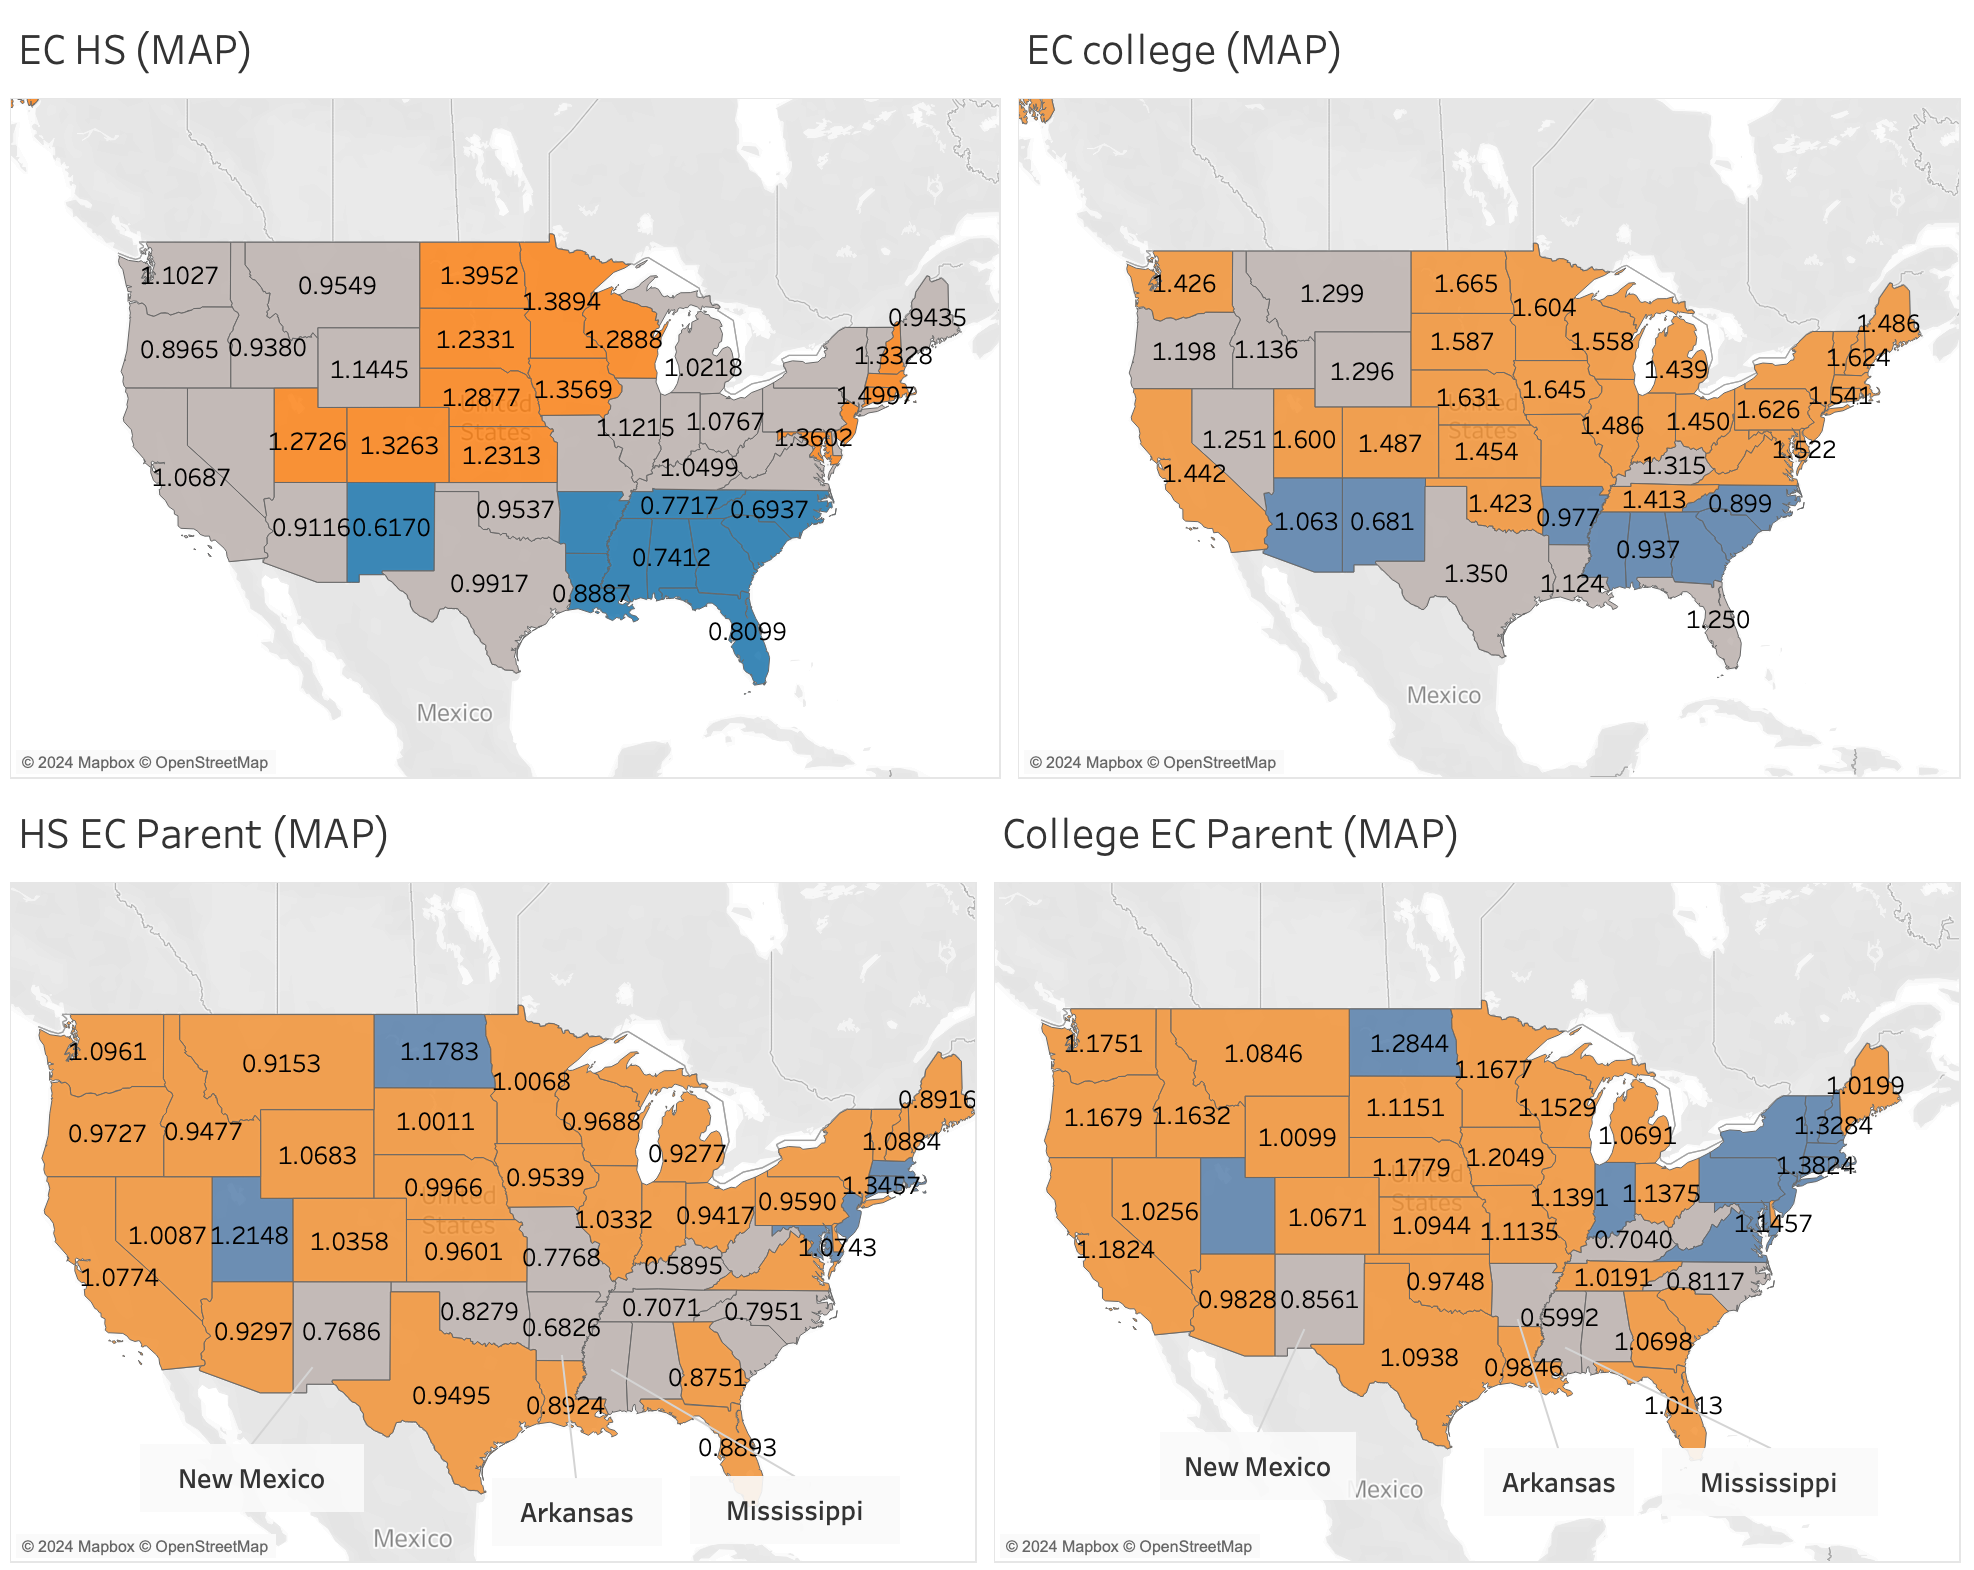

The dashboard page shown, as its layout file describes it:
{"tool":"tableau","page":{"name":"HS vs. College EC","canvas":[1000,800],"ordinal":2},"visuals":[{"type":"worksheet","title":"EC HS (MAP)","mark":"Multipolygon","box":[8,8,504,392]},{"type":"worksheet","title":"EC college (MAP)","mark":"Multipolygon","box":[512,8,480,392]},{"type":"worksheet","title":"HS EC Parent (MAP)","mark":"Multipolygon","box":[8,400,492,392]},{"type":"worksheet","title":"College EC Parent (MAP)","mark":"Multipolygon","box":[500,400,492,392]}]}

Visuals, with their boxes in screenshot pixels (x1, y1, x2, y2), scaled from the page's 1000x800 canvas onto the 1974x1570 screenshot:
"EC HS (MAP)" worksheet (Multipolygon marks): {"left": 16, "top": 16, "right": 1011, "bottom": 785}
"EC college (MAP)" worksheet (Multipolygon marks): {"left": 1011, "top": 16, "right": 1958, "bottom": 785}
"HS EC Parent (MAP)" worksheet (Multipolygon marks): {"left": 16, "top": 785, "right": 987, "bottom": 1554}
"College EC Parent (MAP)" worksheet (Multipolygon marks): {"left": 987, "top": 785, "right": 1958, "bottom": 1554}
